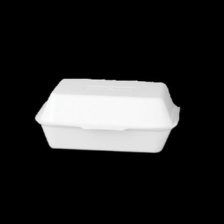foam_box: (29, 70, 190, 157)
